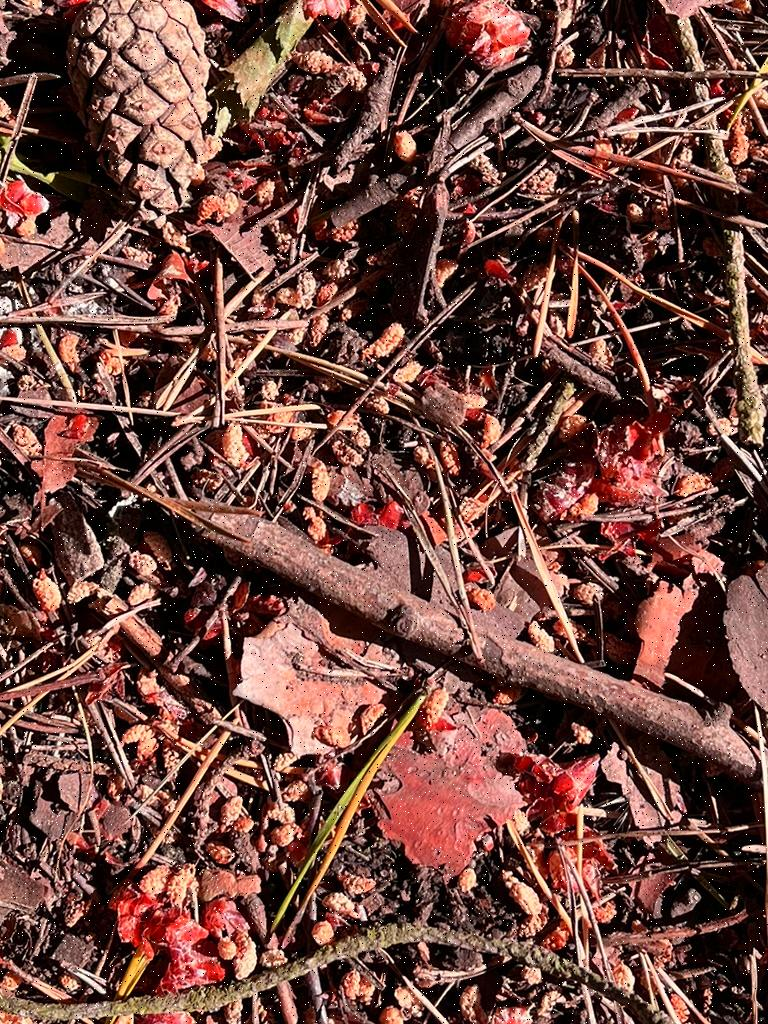pine: (56, 0, 223, 220)
